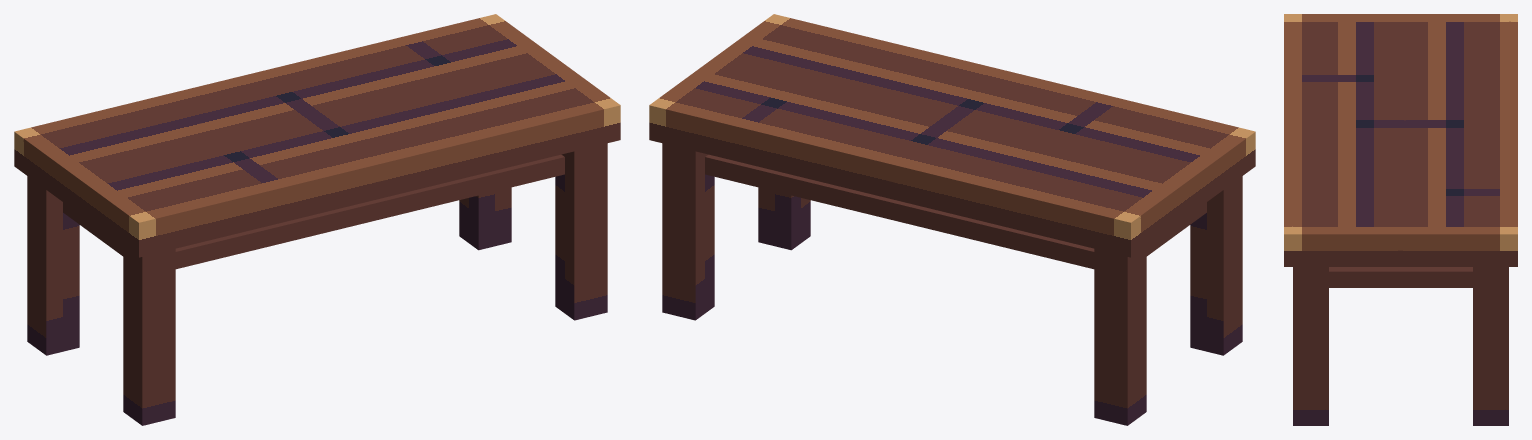
File: ShortLong_Table.fbx
3 renders of one model, left to right at view 1: azimuth 30°, elevation 25°; view 2: azimuth 150°, elevation 25°; view 3: azimuth 270°, elevation 25°, orthographic. The views are drawn at different scales.
Parts seen in each view (by area): view 1: cube; view 2: cube; view 3: cube.
Boxes of the visible parts, x1=… form: cube: x1=14, y1=14, x2=620, y2=425; cube: x1=649, y1=14, x2=1255, y2=425; cube: x1=1284, y1=14, x2=1517, y2=425.
Bounding box in the file's own units: 181 × 75 × 81.25.
Materials: 1 (1 with a texture image).
